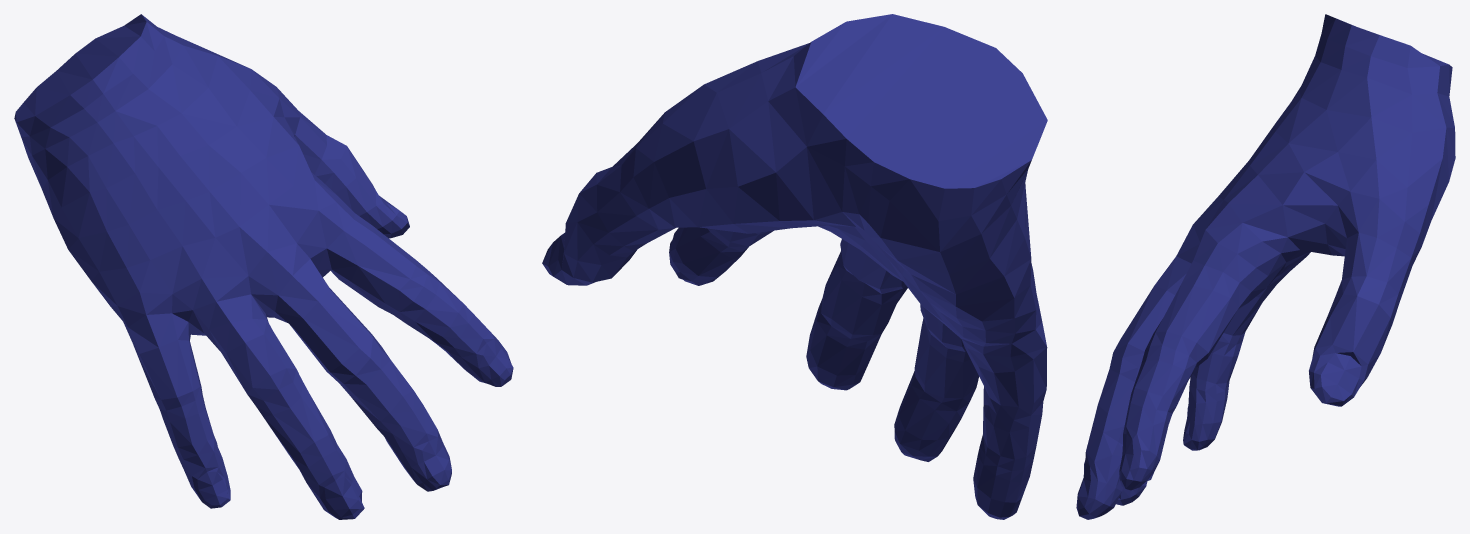
3 renders of one model, left to right at view 1: azimuth 30°, elevation 25°; view 2: azimuth 150°, elevation 25°; view 3: azimuth 270°, elevation 25°, orthographic. The views are drawn at different scales.
Bounding box in the file's own units: 0.1448 × 0.1549 × 0.1232.
